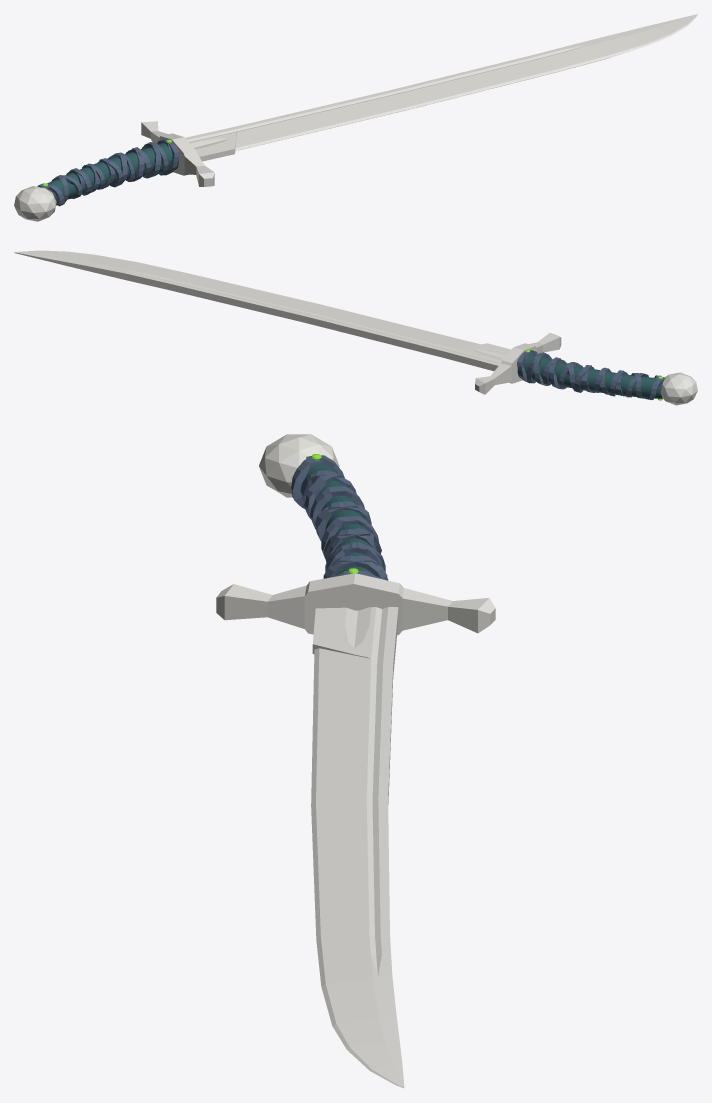
The model's file is sword_v2.fbx.
3 renders of one model, top to bottom at view 1: azimuth 30°, elevation 25°; view 2: azimuth 150°, elevation 25°; view 3: azimuth 270°, elevation 25°, orthographic. The views are drawn at different scales.
Parts seen in each view (by area): view 1: blade, leather strap.001, leather strap, cross guard, handle, back cap; view 2: blade, handle, cross guard, leather strap, leather strap.001, back cap; view 3: blade, cross guard, leather strap.001, leather strap, back cap, handle.
Boxes of the visible parts, x1,y1,x2,y2 form: blade: [185, 14, 697, 161]; leather strap.001: [47, 139, 170, 206]; leather strap: [37, 141, 179, 205]; cross guard: [141, 121, 214, 186]; handle: [46, 143, 178, 203]; back cap: [14, 186, 56, 221]; blade: [14, 250, 510, 371]; handle: [517, 353, 663, 398]; cross guard: [475, 333, 561, 394]; leather strap: [524, 350, 665, 400]; leather strap.001: [517, 352, 661, 398]; back cap: [660, 372, 697, 405]; blade: [311, 607, 404, 1088]; cross guard: [216, 573, 495, 635]; leather strap.001: [291, 459, 388, 580]; leather strap: [301, 455, 387, 580]; back cap: [259, 434, 339, 497]; handle: [300, 459, 376, 575].
Size of the model in its own units: 569 by 25.16 by 105.
